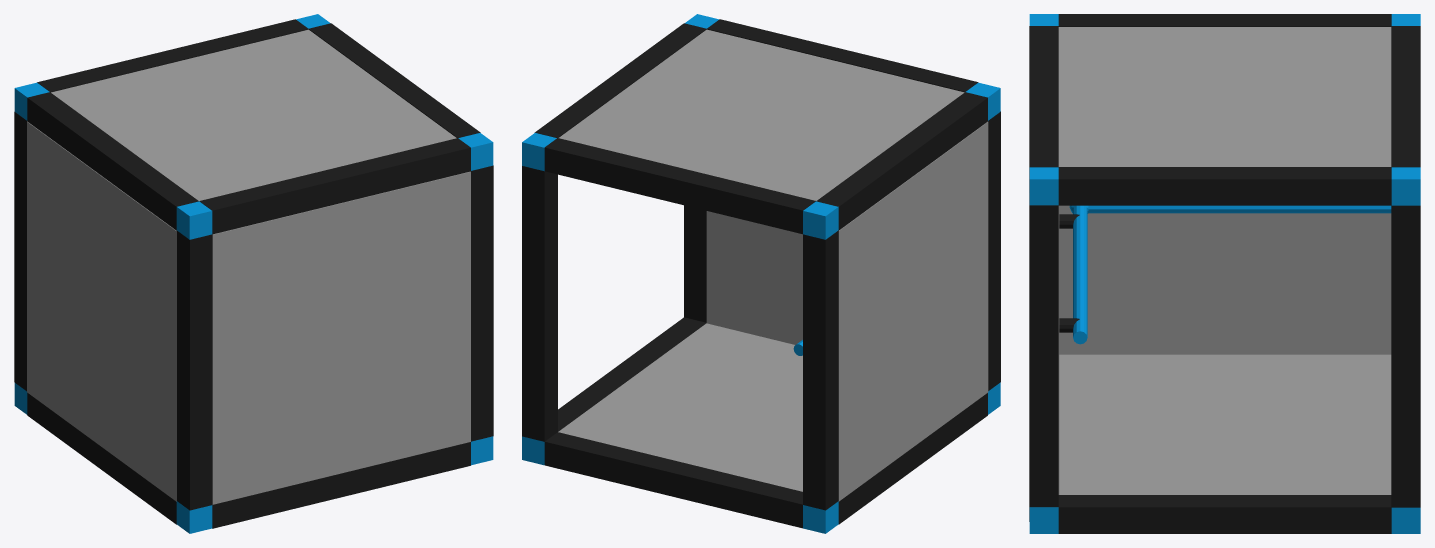
Rendered from Lshape.obj.
3 views of the same model, side by side, from view 1: azimuth 30°, elevation 25°; view 2: azimuth 150°, elevation 25°; view 3: azimuth 270°, elevation 25° (orthographic). The views are drawn at different scales.
Parts seen in each view (by area): view 1: group1710854897, group963054373, group1005772507, group1556195603, group1226622267, group1138974461, group2054616965, group709435993, group583785649, group684207257, group538804669, group966415300 (+5 smaller); view 2: group963054373, group1005772507, group1070944959, group1710854897, group966415300, group62390541, group583785649, group1853298346, group1138974461, group1226622267, group684207257, group538804669 (+8 smaller); view 3: group1070944959, group1005772507, group963054373, group227590905, group538804669, group709435993, group62390541, group1138974461, group1226622267, group583785649, group1577343755, group1724738386 (+5 smaller).
Boxes of the visible parts, x1=… form: group1710854897: x1=212, y1=171, x2=470, y2=504; group963054373: x1=27, y1=121, x2=176, y2=501; group1005772507: x1=51, y1=29, x2=456, y2=200; group1556195603: x1=176, y1=230, x2=212, y2=510; group1226622267: x1=199, y1=138, x2=470, y2=234; group1138974461: x1=27, y1=92, x2=198, y2=230; group2054616965: x1=212, y1=442, x2=470, y2=528; group709435993: x1=471, y1=165, x2=493, y2=441; group583785649: x1=37, y1=19, x2=308, y2=92; group684207257: x1=27, y1=393, x2=176, y2=524; group538804669: x1=308, y1=23, x2=480, y2=137; group966415300: x1=14, y1=111, x2=27, y2=391; group963054373: x1=838, y1=121, x2=988, y2=501; group1005772507: x1=559, y1=29, x2=964, y2=200; group1070944959: x1=558, y1=323, x2=802, y2=491; group1710854897: x1=706, y1=211, x2=802, y2=344; group966415300: x1=803, y1=230, x2=838, y2=510; group62390541: x1=522, y1=166, x2=557, y2=441; group583785649: x1=544, y1=138, x2=815, y2=234; group1853298346: x1=544, y1=432, x2=802, y2=528; group1138974461: x1=816, y1=92, x2=987, y2=230; group1226622267: x1=706, y1=19, x2=978, y2=92; group684207257: x1=838, y1=393, x2=987, y2=524; group538804669: x1=534, y1=23, x2=706, y2=137; group1070944959: x1=1059, y1=354, x2=1391, y2=494; group1005772507: x1=1058, y1=27, x2=1391, y2=166; group963054373: x1=1059, y1=205, x2=1391, y2=354; group227590905: x1=1058, y1=495, x2=1391, y2=533; group538804669: x1=1058, y1=167, x2=1391, y2=205; group709435993: x1=1029, y1=193, x2=1058, y2=507; group62390541: x1=1391, y1=205, x2=1420, y2=507; group1138974461: x1=1058, y1=14, x2=1391, y2=26; group1226622267: x1=1029, y1=26, x2=1058, y2=192; group583785649: x1=1391, y1=26, x2=1420, y2=167; group1577343755: x1=1088, y1=205, x2=1391, y2=213; group1724738386: x1=1073, y1=205, x2=1087, y2=344.
Size of the model in its own units: 0.5413 by 0.5413 by 0.5404.
